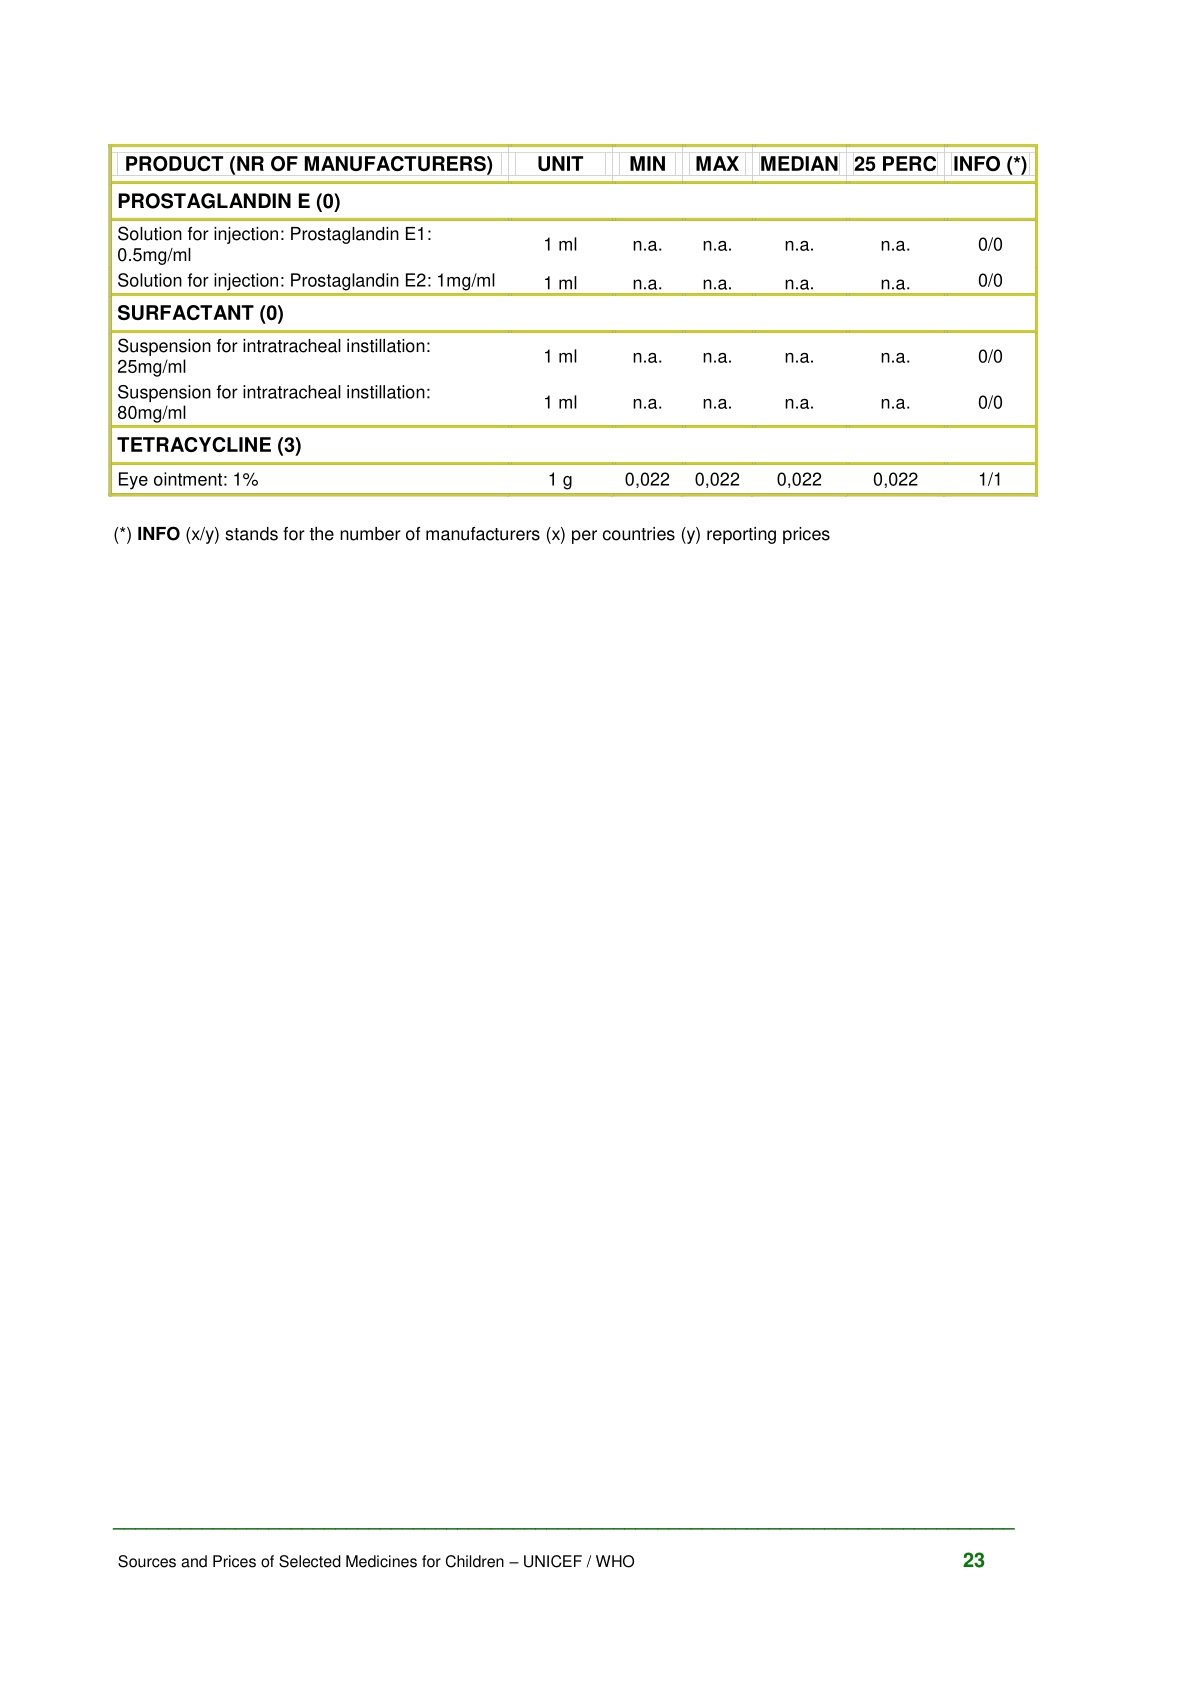merged_cells: (107, 143, 1039, 499)
